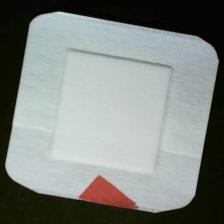Dressing: (4, 14, 222, 215)
Red_T: (75, 172, 142, 216)
